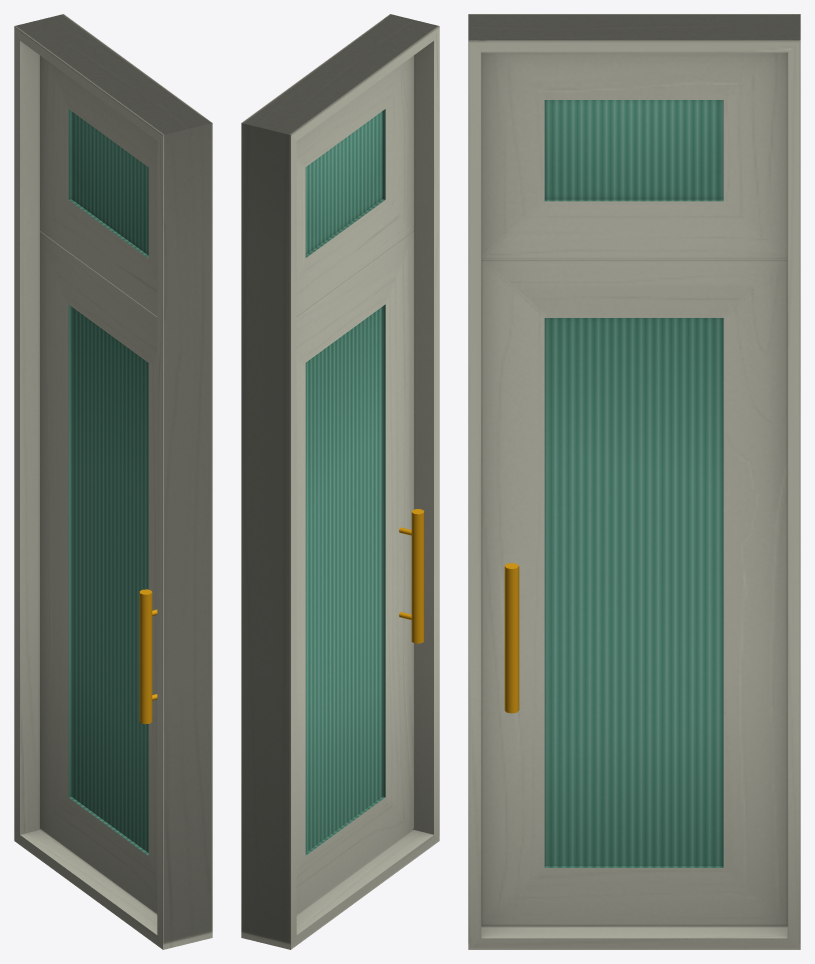
The model's file is school_props_door_small_root.FBX.
3 views of the same model, side by side, from view 1: azimuth 30°, elevation 25°; view 2: azimuth 150°, elevation 25°; view 3: azimuth 270°, elevation 25° (orthographic). The views are drawn at different scales.
Visible parts, largest first — view 1: school_props_door_small_kos, school_props_door_small_door, school_props_door_small_ruch; view 2: school_props_door_small_kos, school_props_door_small_door, school_props_door_small_ruch; view 3: school_props_door_small_door, school_props_door_small_kos, school_props_door_small_ruch.
Boxes of the visible parts, left/top/right/bottom form: school_props_door_small_kos: left=14, top=14, right=212, bottom=949; school_props_door_small_door: left=40, top=231, right=157, bottom=913; school_props_door_small_ruch: left=139, top=589, right=157, bottom=724; school_props_door_small_kos: left=241, top=14, right=439, bottom=949; school_props_door_small_door: left=296, top=231, right=414, bottom=913; school_props_door_small_ruch: left=399, top=509, right=424, bottom=643; school_props_door_small_door: left=481, top=259, right=787, bottom=925; school_props_door_small_kos: left=468, top=14, right=800, bottom=949; school_props_door_small_ruch: left=504, top=563, right=519, bottom=713.
Size of the model in its own units: 22.77 by 314 by 104.
Materials: 2 (1 with a texture image).
